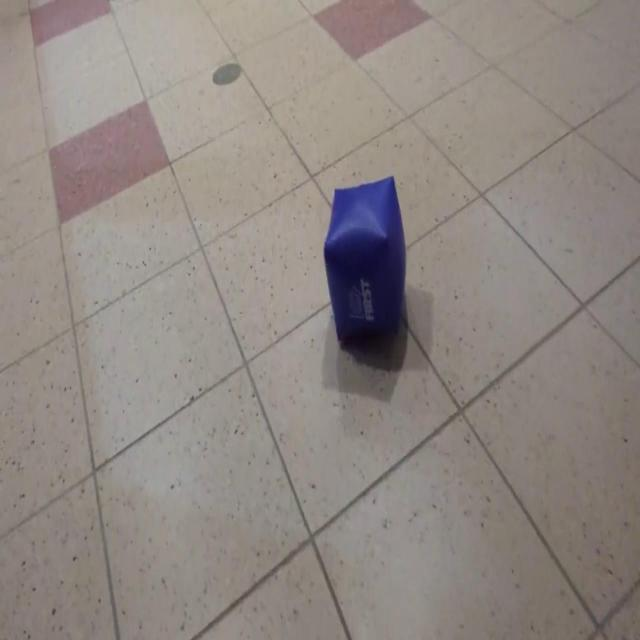frc_cube: (324, 177, 408, 354)
